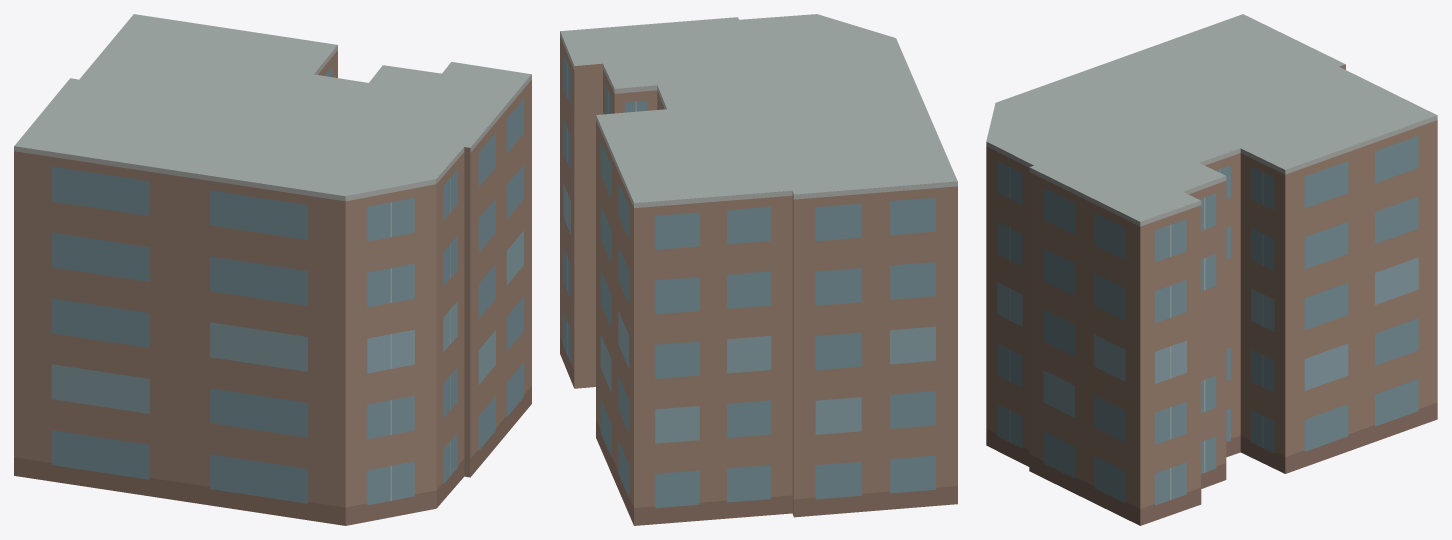
The model's file is survey-upis-32627331.glb.
3 views of the same model, side by side, from view 1: azimuth 30°, elevation 25°; view 2: azimuth 150°, elevation 25°; view 3: azimuth 270°, elevation 25° (orthographic). The views are drawn at different scales.
Visible parts, largest first — view 1: survey-upis-32627331.tmp; view 2: survey-upis-32627331.tmp; view 3: survey-upis-32627331.tmp.
Boxes of the visible parts, <box> form: survey-upis-32627331.tmp: <box>14,14,531,525</box>; survey-upis-32627331.tmp: <box>560,14,957,525</box>; survey-upis-32627331.tmp: <box>986,14,1437,525</box>.
Bounding box in the file's own units: 23.33 × 15.9 × 21.41.
